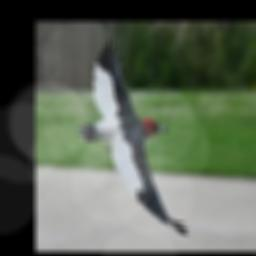Woodpecker: (76, 37, 187, 235)
